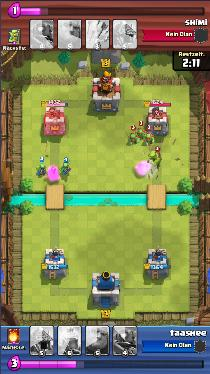ally_goblin_cage: (149, 150, 162, 167)
ally_spear_goblin: (59, 158, 70, 175), (35, 163, 47, 175)
enemy_spear_goblin: (126, 132, 139, 144), (144, 133, 154, 145), (136, 125, 144, 139)
